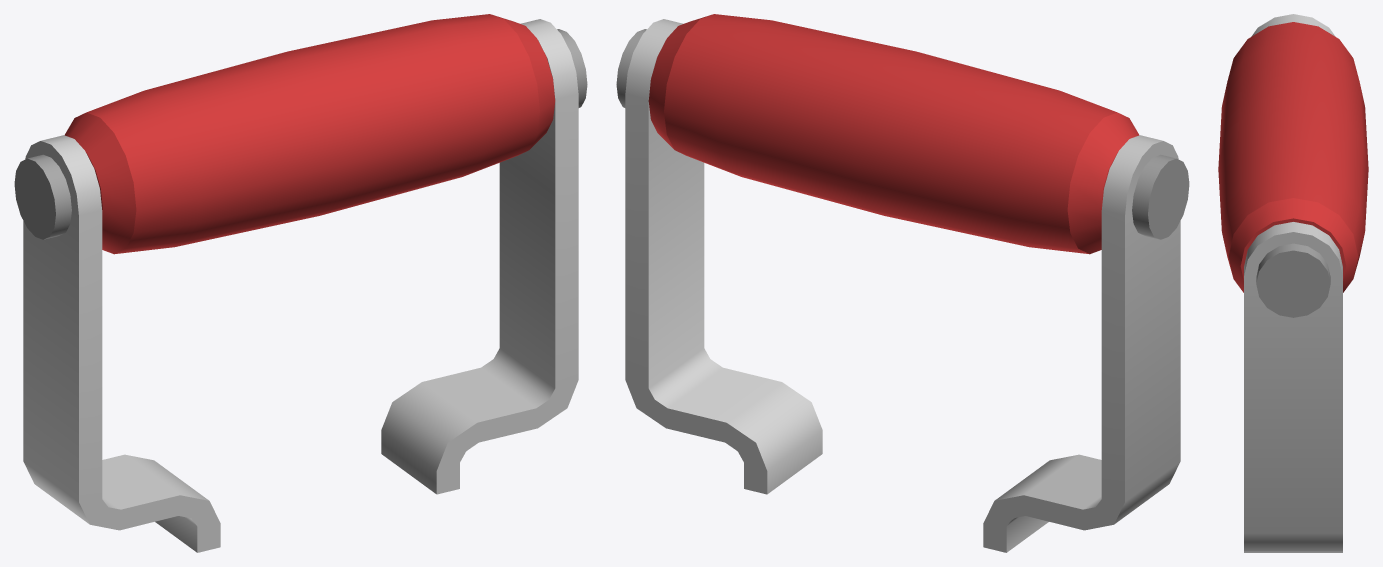
Rendered from LS_Arm_005.fbx.
The picture shows the model from 3 angles, left to right: view 1: azimuth 30°, elevation 25°; view 2: azimuth 150°, elevation 25°; view 3: azimuth 270°, elevation 25°; orthographic projection. The views are drawn at different scales.
Visible parts, largest first — view 1: LS_Arm_005; view 2: LS_Arm_005; view 3: LS_Arm_005.
Boxes of the visible parts, x1=… form: LS_Arm_005: x1=14, y1=14, x2=587, y2=552; LS_Arm_005: x1=616, y1=14, x2=1189, y2=552; LS_Arm_005: x1=1218, y1=14, x2=1368, y2=552.
Bounding box in the file's own units: 198 × 157 × 54.23.
